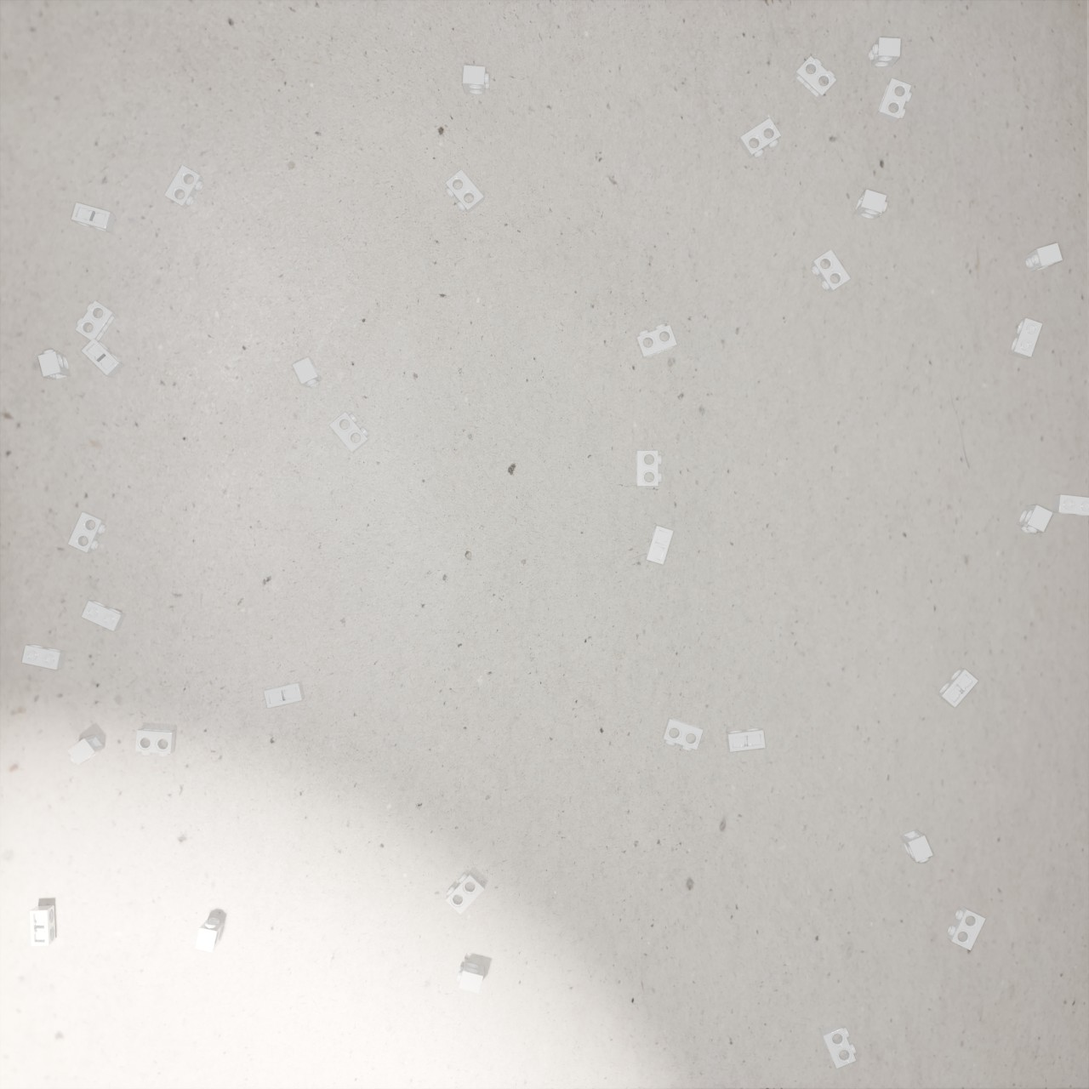lego: (794, 56, 837, 100), (75, 300, 117, 344), (445, 871, 486, 915), (164, 165, 204, 210), (445, 169, 485, 214), (947, 905, 986, 951), (738, 118, 781, 159), (811, 249, 851, 293), (81, 338, 125, 378), (936, 668, 979, 708), (820, 1023, 857, 1069), (329, 412, 370, 453), (876, 78, 912, 123), (68, 512, 106, 553), (1008, 318, 1043, 360), (636, 324, 677, 359), (81, 600, 127, 631), (71, 202, 116, 233), (662, 717, 703, 751), (135, 728, 176, 757), (67, 734, 105, 765), (22, 644, 67, 670), (645, 526, 674, 565), (900, 829, 933, 863), (264, 681, 305, 708), (29, 905, 56, 946), (1025, 243, 1063, 272), (38, 349, 72, 380), (854, 189, 888, 220), (1017, 505, 1053, 534), (292, 357, 323, 389), (868, 37, 901, 67), (195, 918, 224, 952), (456, 961, 485, 994), (636, 451, 662, 487), (726, 728, 765, 752), (463, 65, 490, 95), (1052, 495, 1089, 516)
